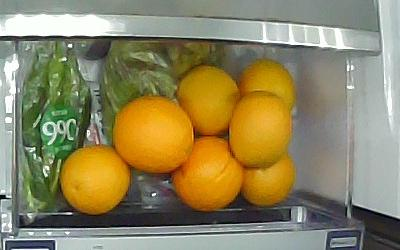orange: (111, 94, 194, 173), (170, 134, 243, 210), (58, 144, 131, 214), (227, 89, 291, 168), (175, 63, 240, 135), (235, 57, 296, 111), (242, 153, 295, 204)
